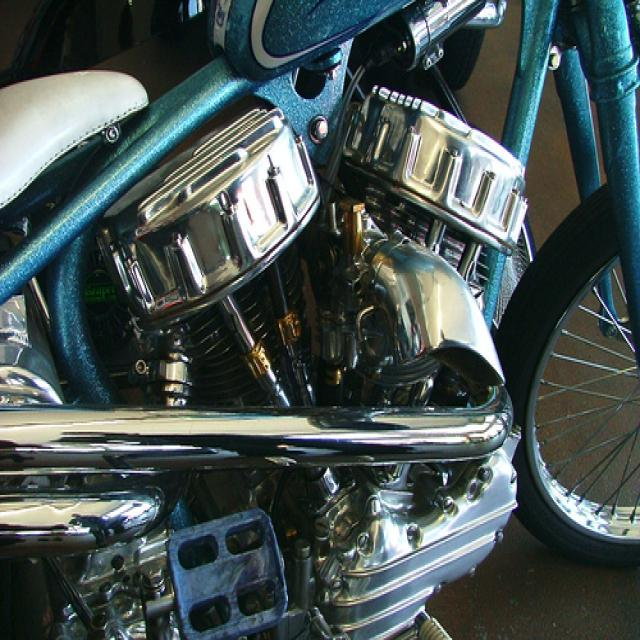motorbike: (1, 1, 639, 639)
